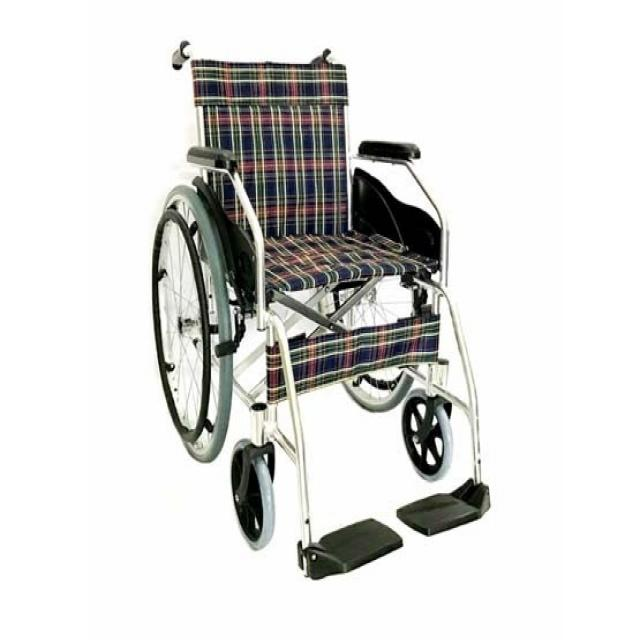wheelchair: (140, 23, 510, 596)
